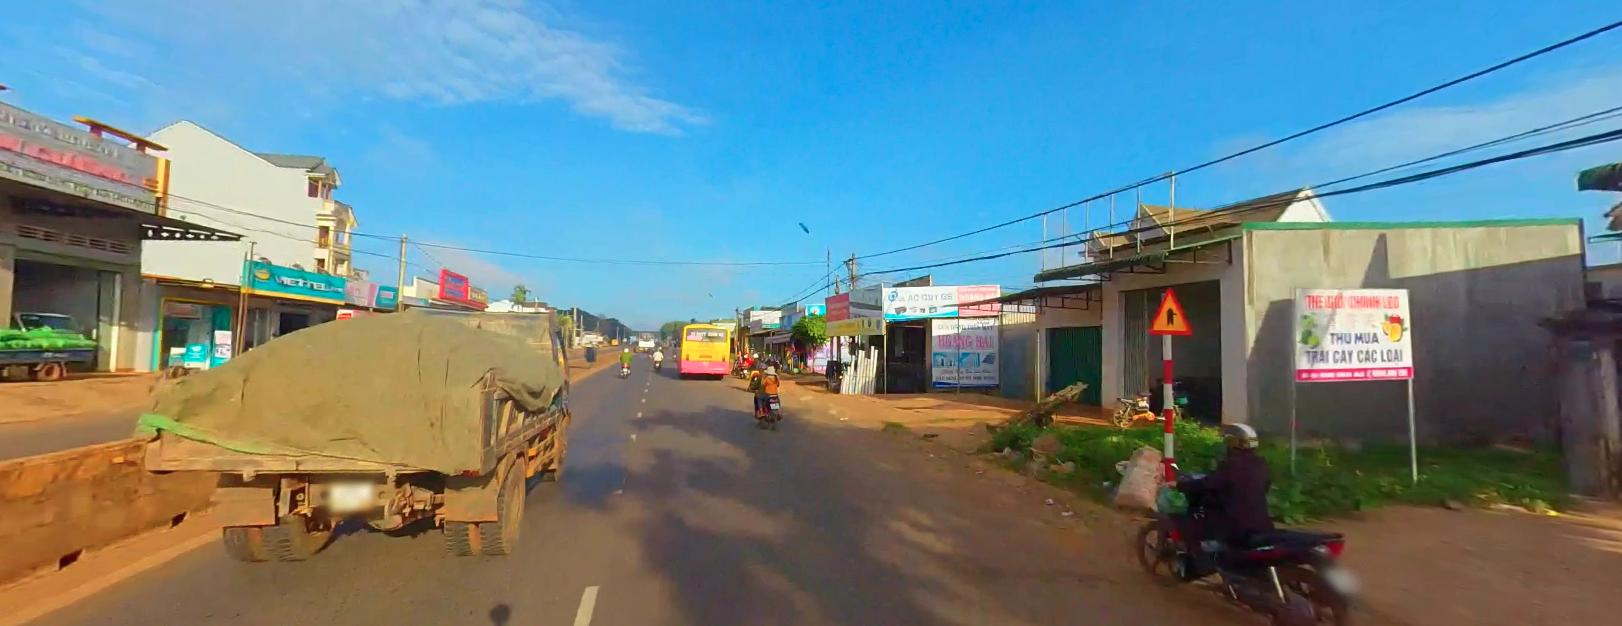Nguy hiem: (1147, 285, 1196, 334)
